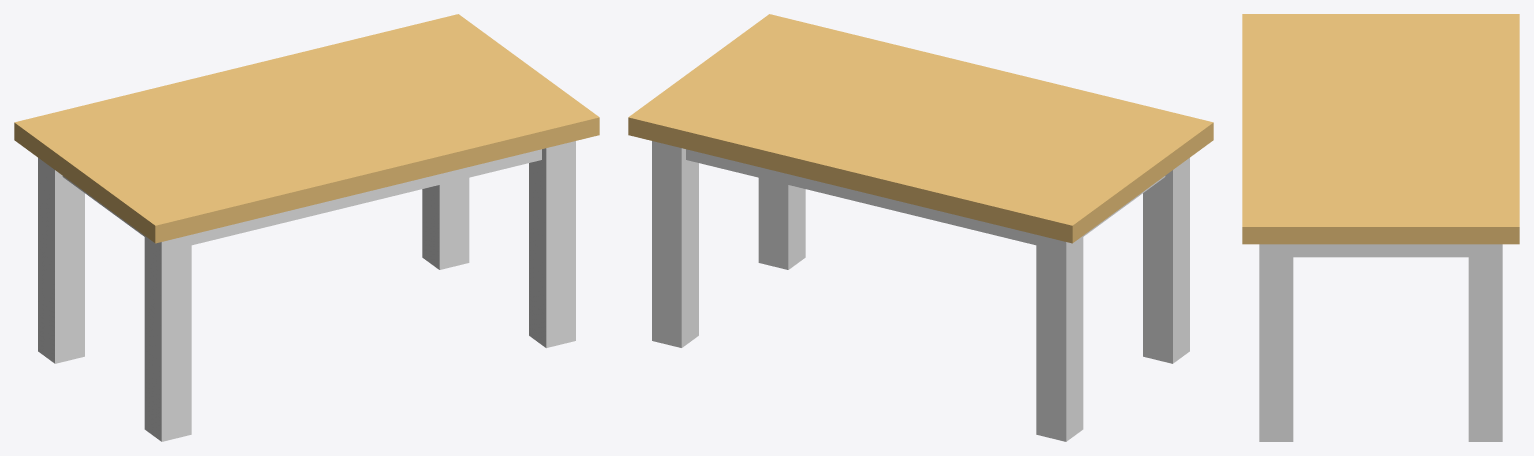
Rendered from Table_2.fbx.
3 renders of one model, left to right at view 1: azimuth 30°, elevation 25°; view 2: azimuth 150°, elevation 25°; view 3: azimuth 270°, elevation 25°, orthographic.
Parts seen in each view (by area): view 1: polySurface2096; view 2: polySurface2096; view 3: polySurface2096.
Part boxes in pixels (x1=…): polySurface2096: x1=14, y1=14, x2=599, y2=441; polySurface2096: x1=628, y1=14, x2=1213, y2=441; polySurface2096: x1=1242, y1=14, x2=1519, y2=441.
Size of the model in its own units: 2.22 by 1.08 by 1.22.
1 material, 1 textured.
